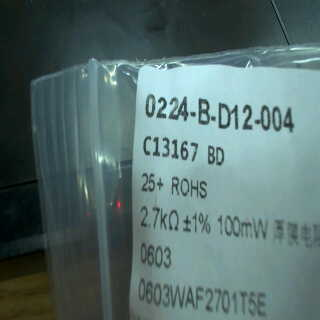2.7kR: (139, 204, 180, 237)
